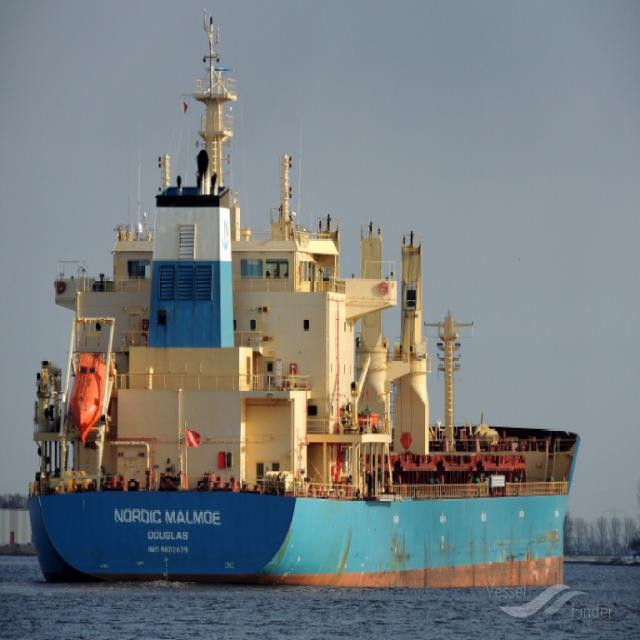OCR: (110, 497, 225, 560)
